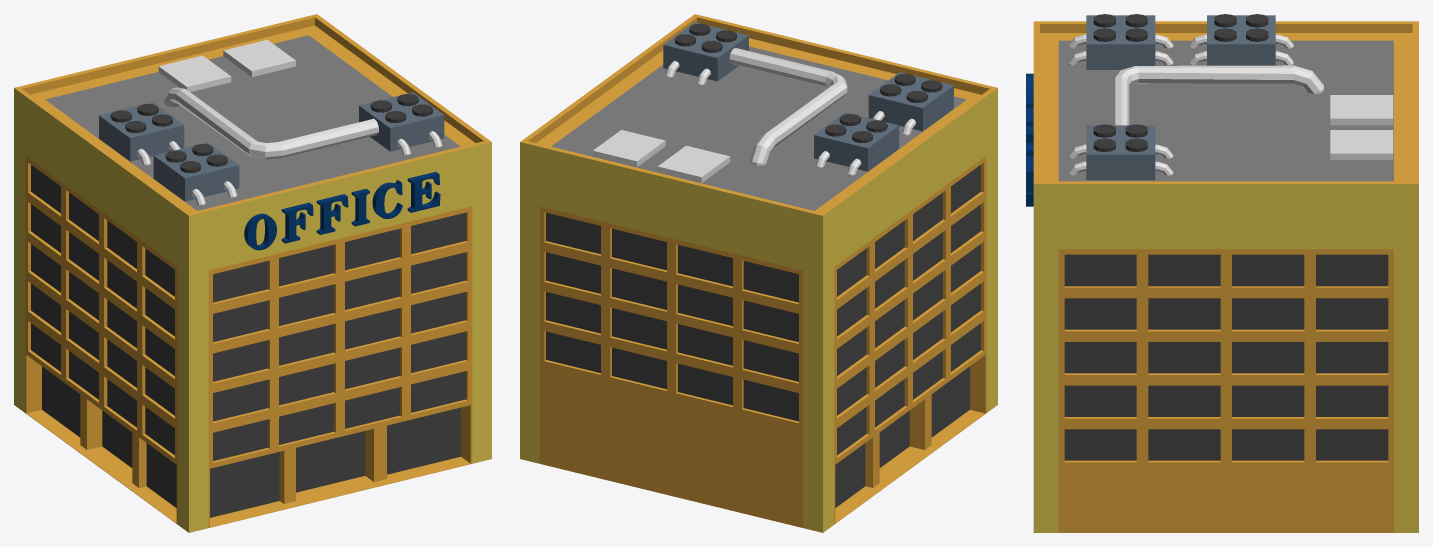
Rendered from 18 Office.fbx.
3 views of the same model, side by side, from view 1: azimuth 30°, elevation 25°; view 2: azimuth 150°, elevation 25°; view 3: azimuth 270°, elevation 25° (orthographic). The views are drawn at different scales.
Visible parts, largest first — view 1: Office; view 2: Office; view 3: Office.
Part boxes in pixels (x1,y1,x2,y2): Office: [14, 14, 491, 532]; Office: [520, 14, 997, 532]; Office: [1026, 14, 1418, 532].
Bounding box in the file's own units: 200 × 212 × 204.
